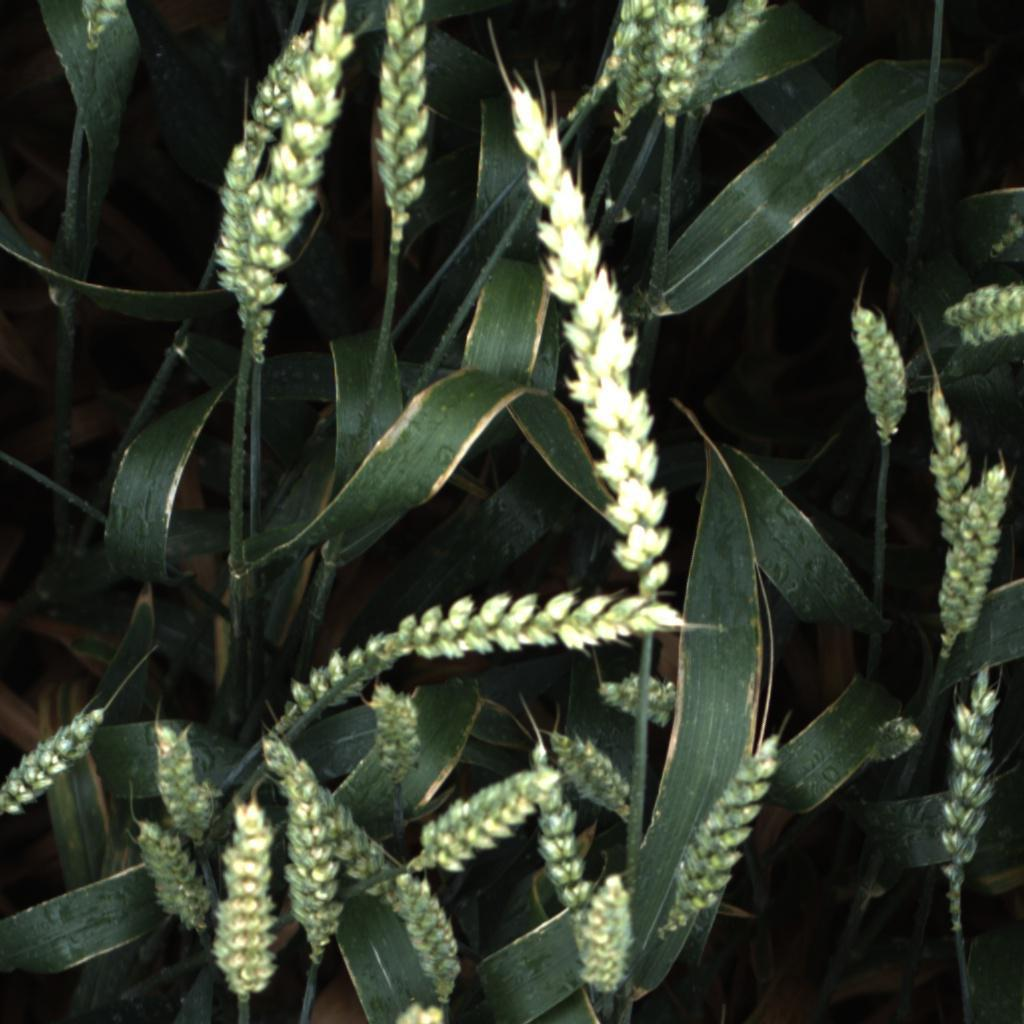0-0: (454, 73, 698, 582), (243, 0, 360, 358), (659, 722, 799, 937), (387, 587, 689, 663), (258, 727, 389, 897), (932, 659, 1007, 911), (407, 766, 558, 875), (369, 0, 435, 222), (522, 740, 596, 934), (279, 616, 417, 720), (209, 796, 279, 998), (220, 26, 323, 163), (0, 694, 111, 819), (281, 757, 347, 967), (938, 462, 1013, 644), (838, 289, 912, 443), (120, 815, 214, 936), (203, 140, 267, 311), (385, 873, 467, 995), (922, 379, 977, 549), (146, 718, 218, 847), (607, 0, 670, 143), (545, 733, 638, 823), (649, 0, 710, 137), (575, 873, 637, 999), (697, 0, 770, 85), (940, 281, 1024, 351), (366, 676, 422, 778), (594, 670, 681, 729), (599, 0, 654, 89), (872, 710, 923, 771), (78, 0, 129, 46), (388, 1000, 448, 1024)
